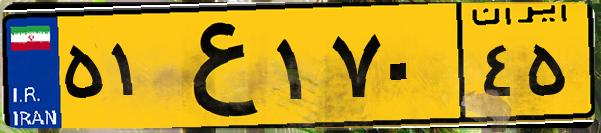0: (385, 28, 445, 110)
1: (270, 28, 330, 110), (110, 28, 158, 98)
4: (475, 38, 525, 113)
5: (57, 26, 110, 100), (525, 38, 570, 115)
7: (330, 28, 385, 110)
ع: (158, 12, 270, 120)
